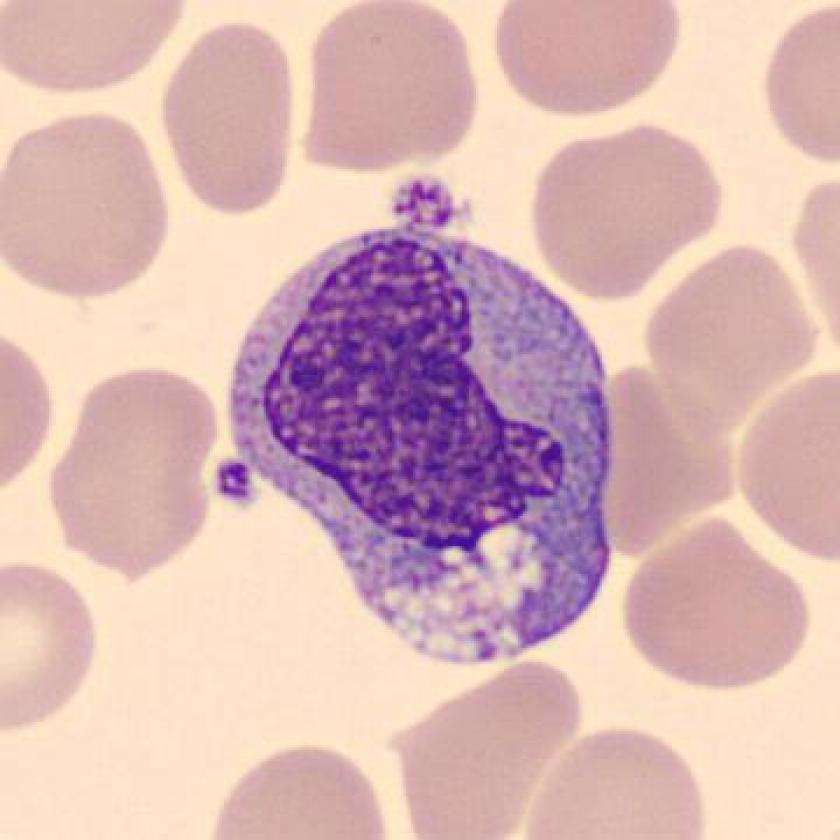monocyte: (211, 210, 640, 682)
